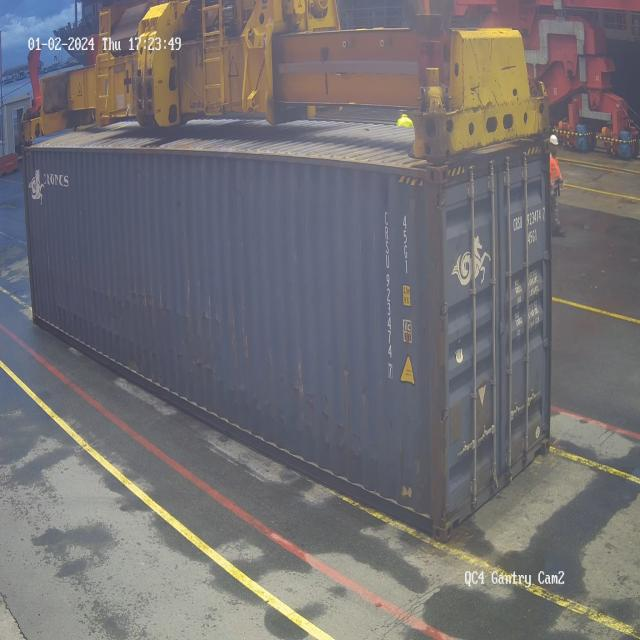dent: (95, 320, 338, 421), (62, 264, 235, 323)
